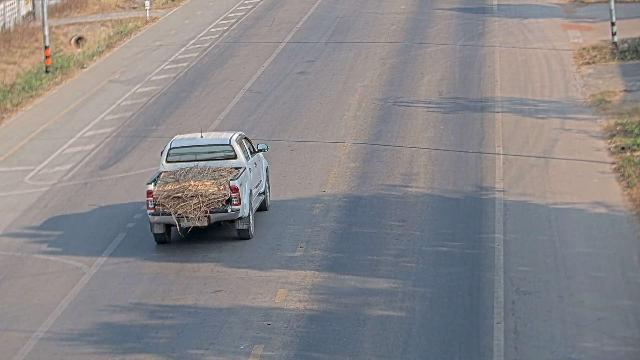pickup-truck: (145, 129, 271, 244)
